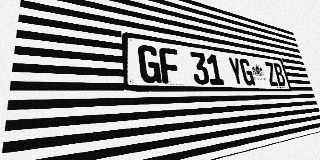1: (205, 53, 224, 85)
3: (190, 51, 210, 85)
B: (272, 63, 287, 86)
F: (159, 47, 181, 84)
G: (137, 44, 162, 83), (239, 58, 255, 86)
Y: (227, 56, 245, 85)
Z: (264, 62, 279, 86)
